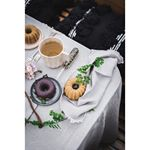cups: (37, 36, 70, 69)
